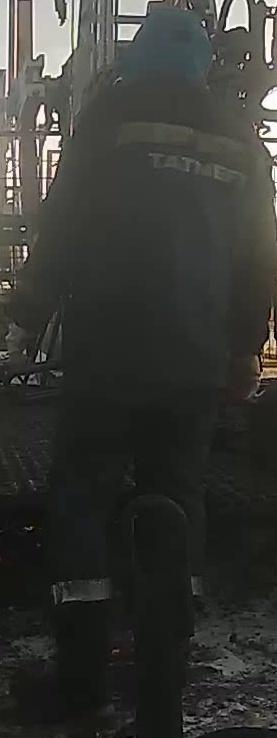gloves: (2, 323, 40, 384)
vest: (20, 108, 275, 402)
